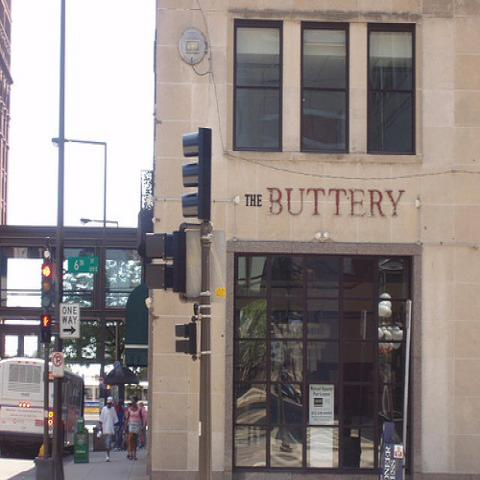bus: (0, 355, 45, 435), (58, 371, 84, 455), (83, 376, 100, 434)
